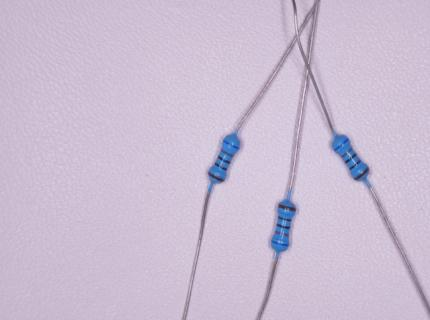Black band: (349, 159, 362, 170), (344, 153, 357, 164), (214, 162, 227, 171), (218, 155, 231, 164), (278, 216, 292, 222), (277, 223, 290, 229)
Blue band: (333, 138, 349, 152), (223, 139, 240, 151), (271, 239, 289, 247)
Brown band: (353, 166, 369, 181), (208, 171, 225, 182), (278, 203, 296, 212)
Grey band: (340, 147, 354, 159), (220, 148, 234, 159), (275, 230, 289, 237)
